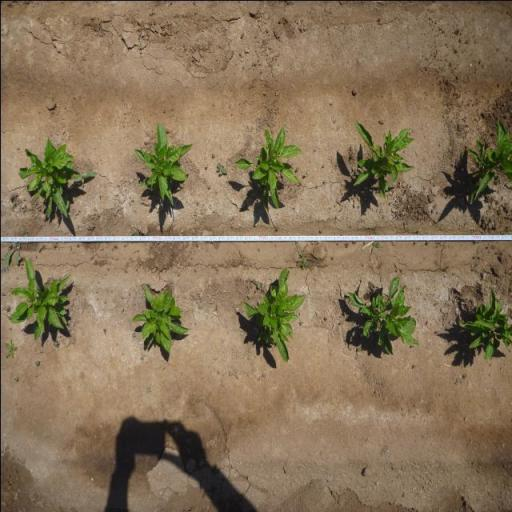plant: (240, 268, 308, 364), (233, 123, 300, 211), (346, 274, 418, 354), (350, 121, 416, 201), (133, 120, 193, 206), (8, 262, 72, 340), (20, 136, 78, 221), (466, 116, 512, 208), (134, 283, 190, 354), (459, 286, 512, 360)
weed: (3, 227, 27, 266), (74, 170, 96, 190), (1, 338, 17, 360), (295, 250, 308, 270), (214, 162, 228, 174), (370, 240, 380, 250), (52, 338, 58, 348), (12, 375, 19, 382), (3, 306, 10, 312), (51, 241, 57, 248), (92, 259, 98, 266), (392, 261, 398, 268), (130, 330, 135, 338), (33, 359, 39, 365), (36, 245, 42, 251), (256, 281, 262, 287), (102, 327, 106, 335), (111, 242, 116, 248), (145, 386, 150, 392), (178, 182, 183, 188), (210, 152, 215, 158), (344, 240, 348, 247), (76, 242, 80, 248), (194, 240, 198, 246), (136, 175, 140, 181), (356, 347, 360, 352), (411, 364, 416, 368), (351, 240, 356, 244), (342, 311, 346, 316), (204, 163, 207, 168), (140, 354, 142, 361), (176, 272, 180, 274), (304, 172, 306, 176)
